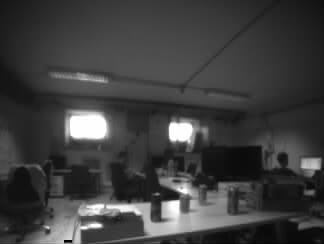Tin can: (151, 192, 162, 222), (228, 186, 238, 214), (180, 193, 190, 213), (199, 186, 207, 204)
